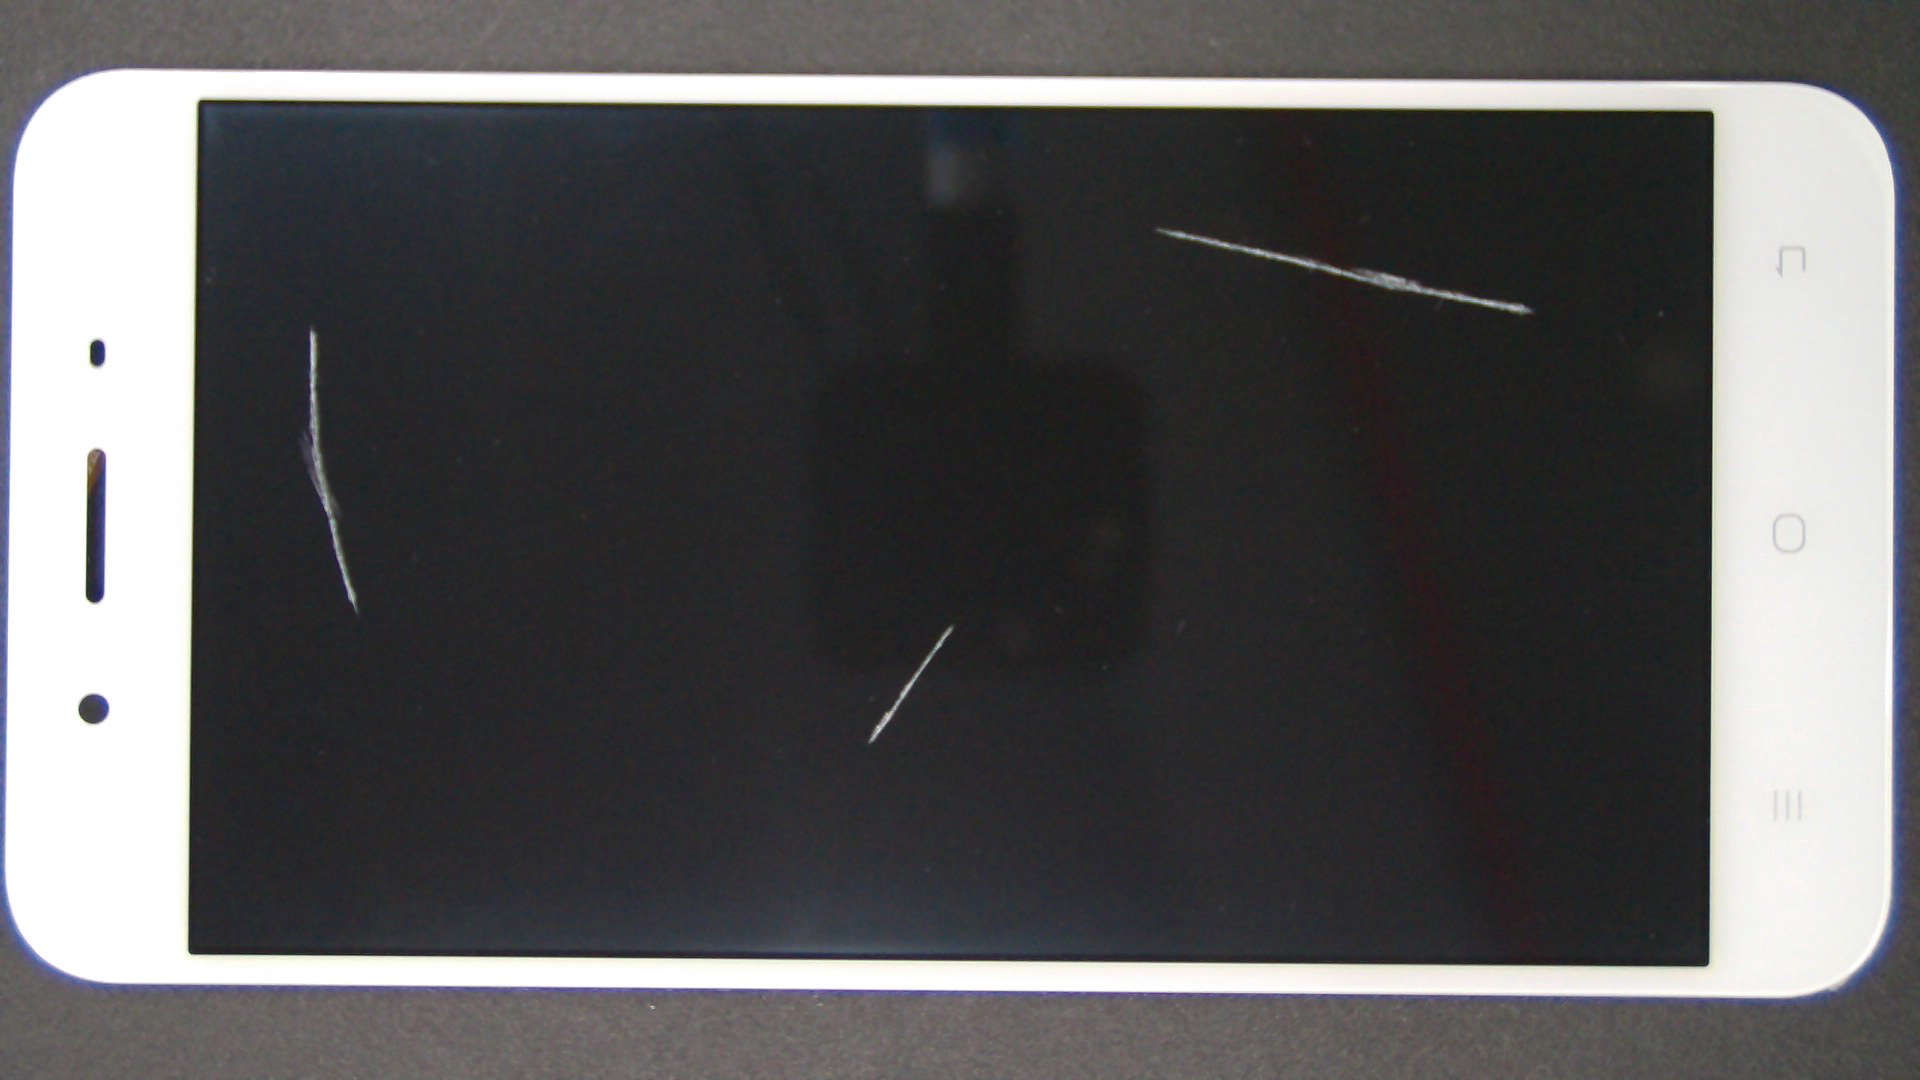defect: (1154, 225, 1534, 316), (297, 326, 360, 615), (866, 622, 953, 744)
